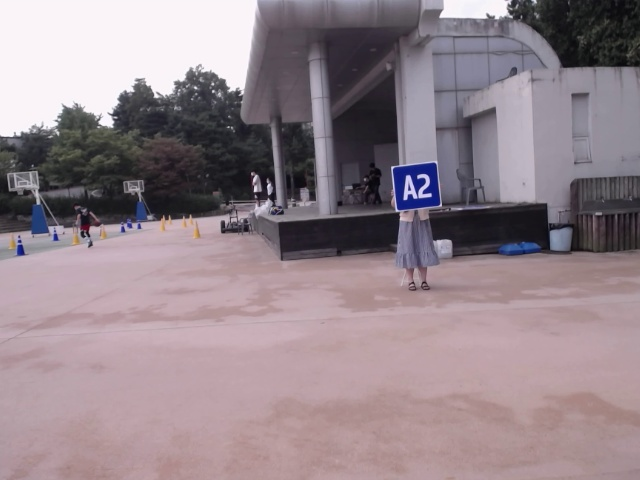delivery_a2: (391, 162, 441, 211)
